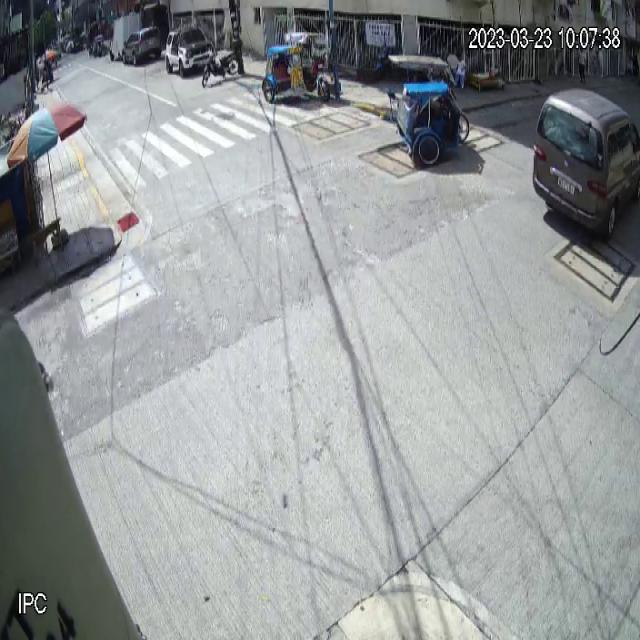Car: (532, 88, 640, 239)
Tricycle: (386, 54, 469, 168), (261, 32, 331, 104)
